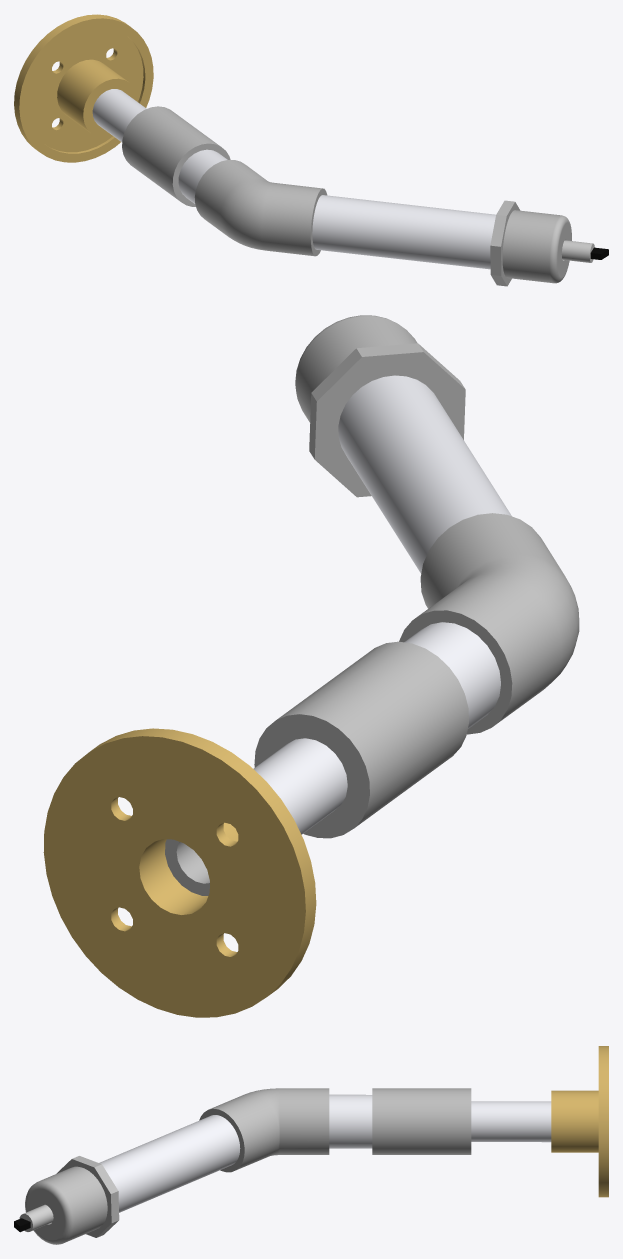
File: HerramientaV2.obj
3 views of the same model, one above another, from view 1: azimuth 30°, elevation 25°; view 2: azimuth 150°, elevation 25°; view 3: azimuth 270°, elevation 25° (orthographic). The views are drawn at different scales.
Parts seen in each view (by area): view 1: Solid1, Solid1:1; view 2: Solid1, Solid1:1; view 3: Solid1, Solid1:1.
Part boxes in pixels (<box>): Solid1: <box>14,14,327,256</box>; Solid1:1: <box>312,195,608,286</box>; Solid1: <box>43,513,579,1017</box>; Solid1:1: <box>295,315,511,573</box>; Solid1: <box>199,1046,608,1197</box>; Solid1:1: <box>14,1115,240,1244</box>.
Bounding box in the file's own units: 0.1535 × 0.0703 × 0.2763.
